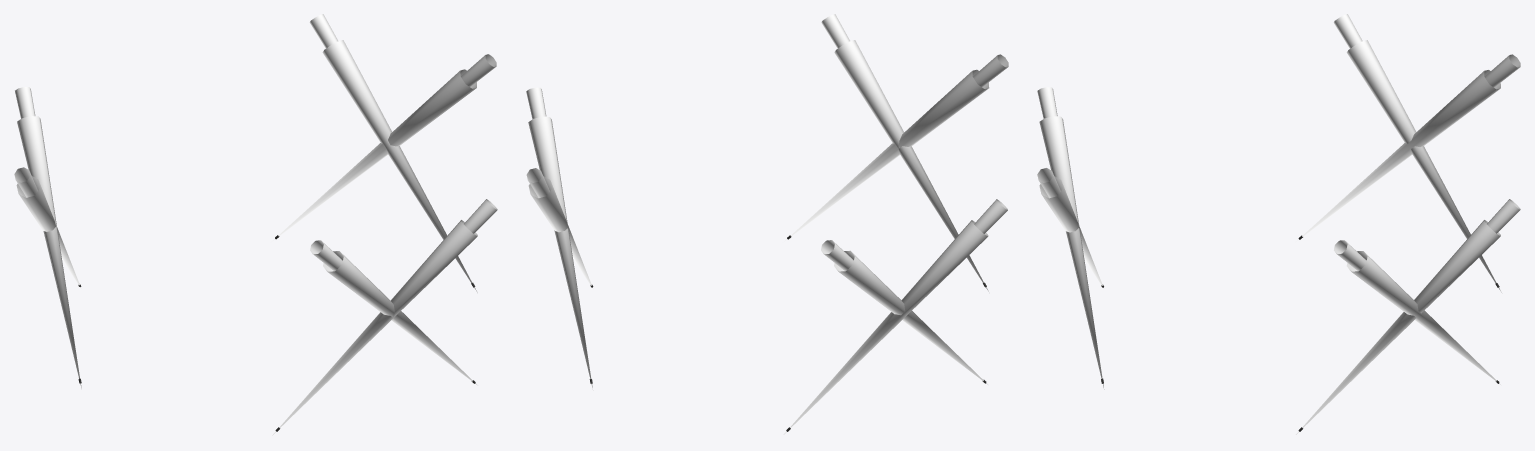
The model's file is wa_search1.dae.
The picture shows the model from 3 angles, left to right: view 1: azimuth 30°, elevation 25°; view 2: azimuth 150°, elevation 25°; view 3: azimuth 270°, elevation 25°; orthographic projection.
Parts seen in each view (by area): view 1: n5b5, n1b1, n4b4, n2b2, n0b0, n3b3; view 2: n1b1, n3b3, n0b0, n4b4, n2b2, n5b5; view 3: n3b3, n5b5, n2b2, n0b0, n4b4, n1b1.
Part boxes in pixels (x1,y1,x2,y2): n5b5: [309, 14, 477, 292]; n1b1: [272, 199, 497, 435]; n4b4: [271, 54, 496, 241]; n2b2: [15, 87, 81, 388]; n0b0: [310, 240, 477, 385]; n3b3: [14, 167, 81, 288]; n1b1: [821, 14, 988, 291]; n3b3: [783, 199, 1007, 434]; n0b0: [784, 54, 1008, 241]; n4b4: [526, 87, 592, 387]; n2b2: [821, 240, 987, 384]; n5b5: [526, 168, 593, 287]; n3b3: [1333, 14, 1501, 292]; n5b5: [1296, 199, 1520, 434]; n2b2: [1295, 54, 1520, 242]; n0b0: [1037, 87, 1104, 389]; n4b4: [1334, 240, 1500, 384]; n1b1: [1037, 168, 1103, 288].
Size of the model in its own units: 112493 by 47551 by 97878.
1 material, 1 textured.
